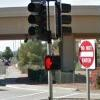Traffic light: (27, 0, 83, 80)
